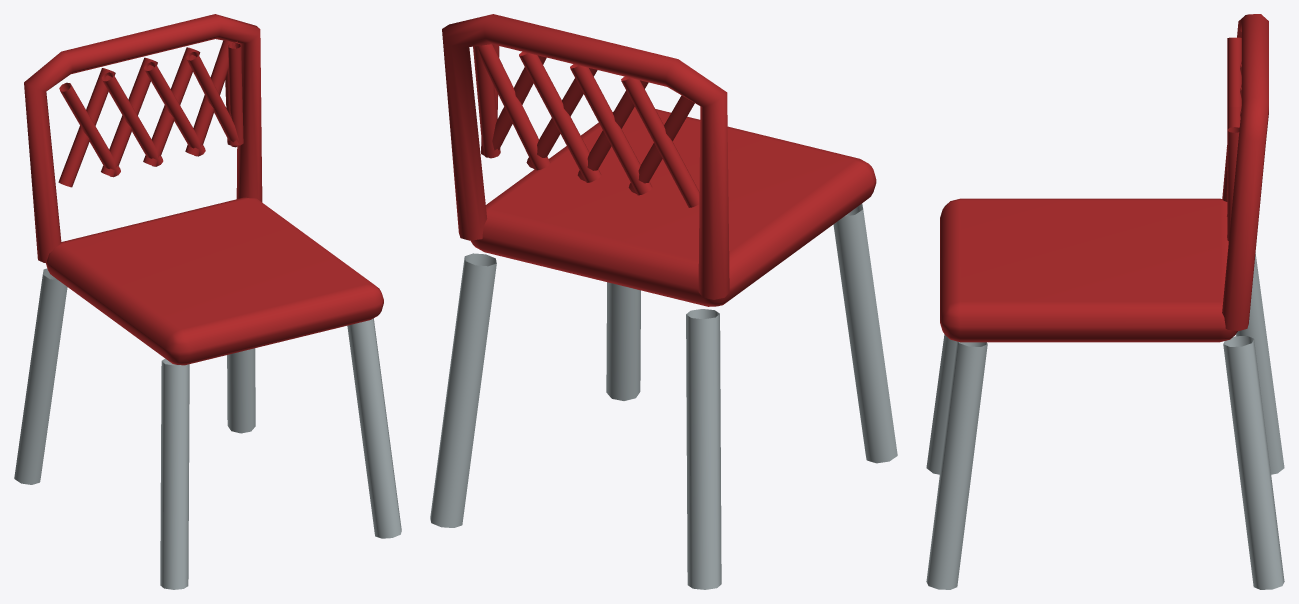
File: prod-1773061941304-puvhk.glb
The picture shows the model from 3 angles, left to right: view 1: azimuth 30°, elevation 25°; view 2: azimuth 150°, elevation 25°; view 3: azimuth 270°, elevation 25°; orthographic projection. The views are drawn at different scales.
Parts seen in each view (by area): view 1: Upholstered seat.013, Chair leg.044; view 2: Upholstered seat.013, Chair leg.044; view 3: Upholstered seat.013, Chair leg.044.
Part boxes in pixels (x1=…): Upholstered seat.013: x1=24, y1=14, x2=383, y2=365; Chair leg.044: x1=14, y1=268, x2=401, y2=589; Upholstered seat.013: x1=442, y1=14, x2=876, y2=306; Chair leg.044: x1=430, y1=203, x2=897, y2=589; Upholstered seat.013: x1=940, y1=14, x2=1268, y2=342; Chair leg.044: x1=926, y1=253, x2=1284, y2=589.
Size of the model in its own units: 0.47 by 0.8 by 0.55.
